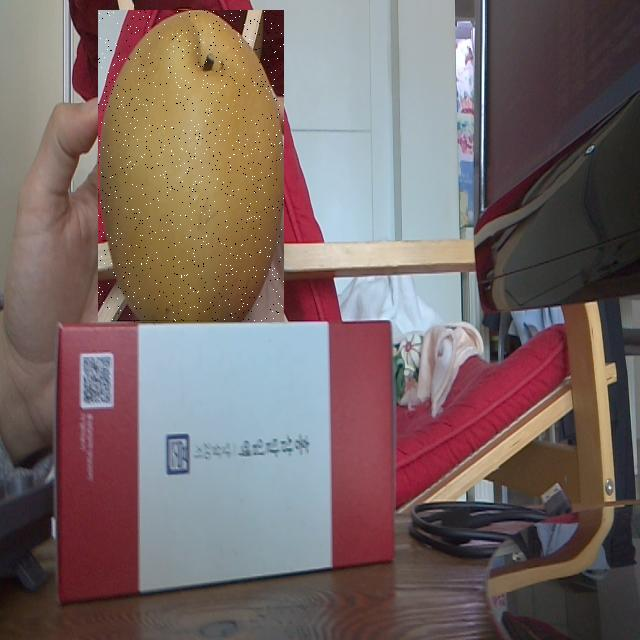pear: (98, 10, 284, 322)
